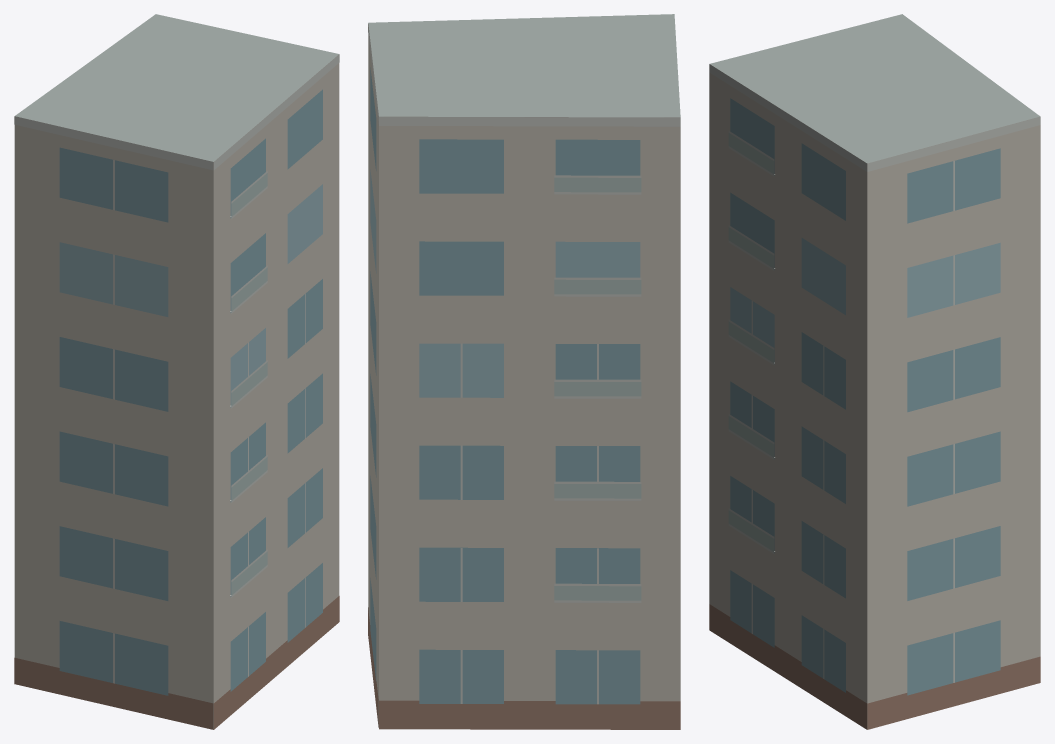
Rendered from survey-upis-32944301.glb.
3 views of the same model, side by side, from view 1: azimuth 30°, elevation 25°; view 2: azimuth 150°, elevation 25°; view 3: azimuth 270°, elevation 25° (orthographic). The views are drawn at different scales.
Visible parts, largest first — view 1: survey-upis-32944301.tmp; view 2: survey-upis-32944301.tmp; view 3: survey-upis-32944301.tmp.
Part boxes in pixels (bbox=[...]): survey-upis-32944301.tmp: bbox=[14, 14, 339, 729]; survey-upis-32944301.tmp: bbox=[368, 14, 680, 729]; survey-upis-32944301.tmp: bbox=[709, 14, 1040, 729].
Bounding box in the file's own units: 9.18 × 16.2 × 8.59.
